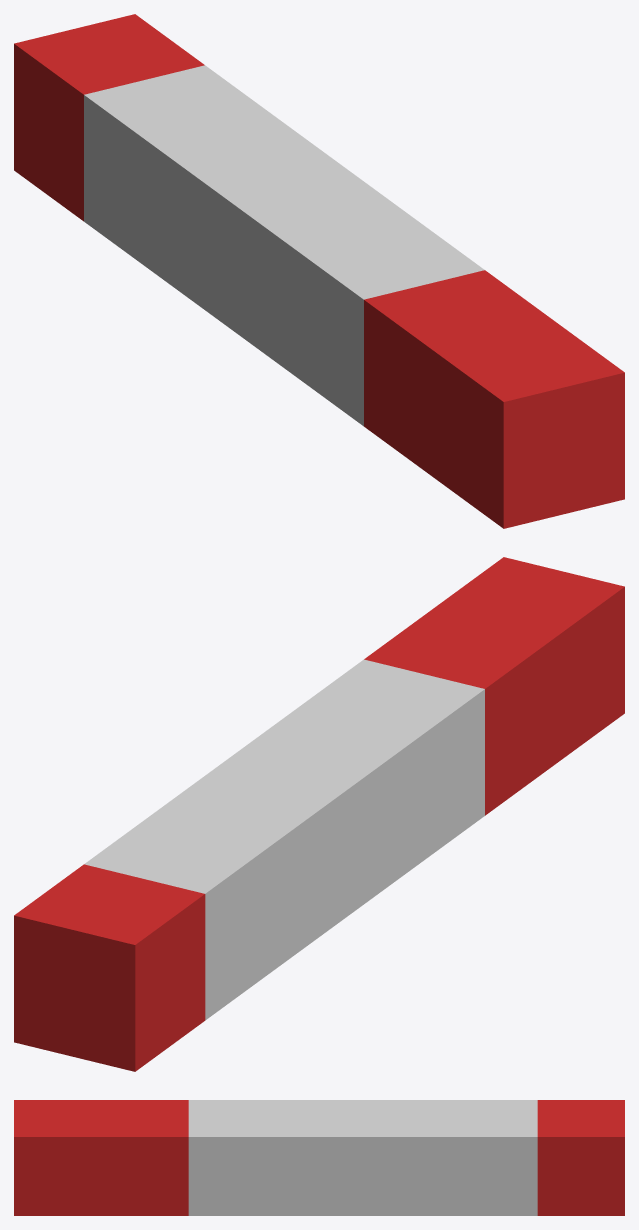
File: pen_red_01.glb
The picture shows the model from 3 angles, top to bottom: view 1: azimuth 30°, elevation 25°; view 2: azimuth 150°, elevation 25°; view 3: azimuth 270°, elevation 25°; orthographic projection. The views are drawn at different scales.
Parts seen in each view (by area): view 1: Untitled; view 2: Untitled; view 3: Untitled.
Boxes of the visible parts, box(x1,y1,x2,y2) form: Untitled: box(14, 14, 624, 528); Untitled: box(14, 557, 624, 1071); Untitled: box(14, 1100, 624, 1215).
Bounding box in the file's own units: 0.03 × 0.03 × 0.21.
Materials: 1 (1 with a texture image).
